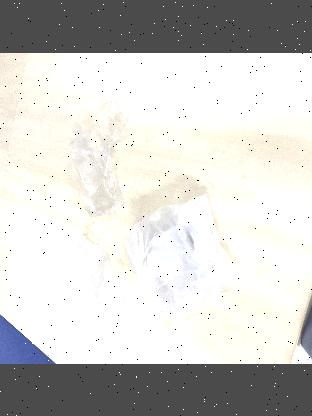Others: (134, 192, 236, 328), (70, 96, 140, 220), (64, 228, 134, 329)
